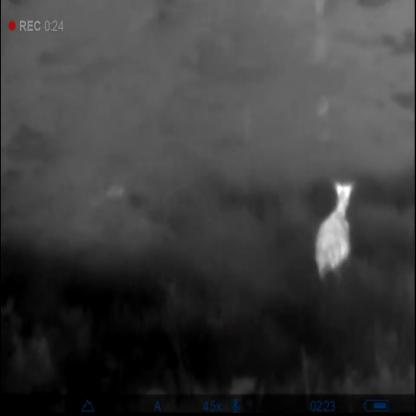rehkitze: (317, 179, 355, 289)
